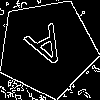A: (22, 22, 74, 79)
